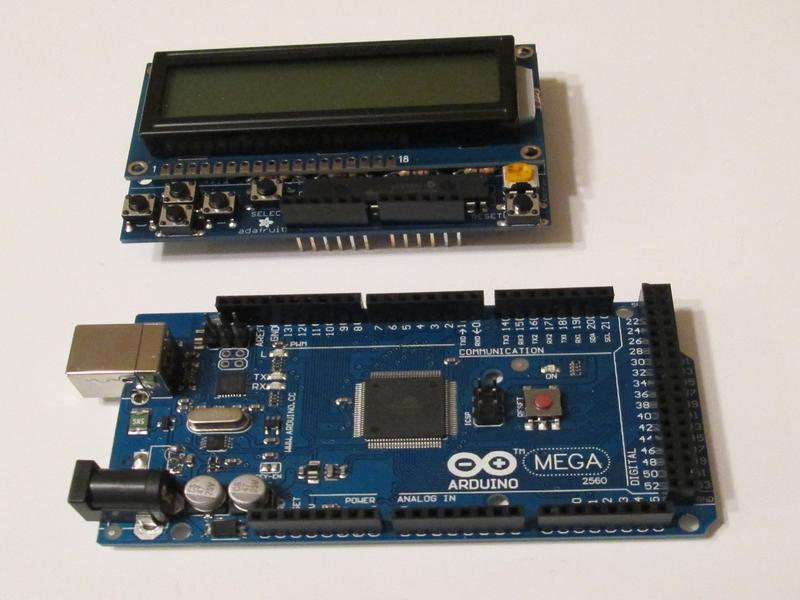Arduino Mega: (68, 278, 720, 548)
